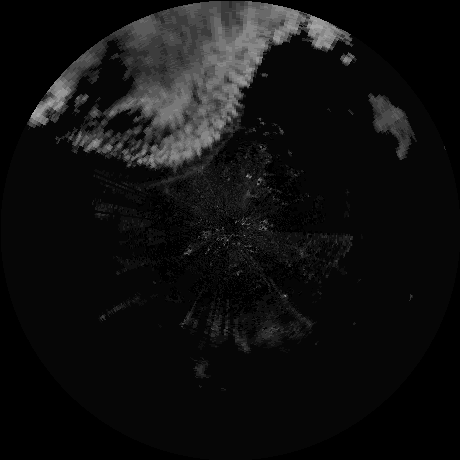frontgust: (150, 135, 234, 188)
